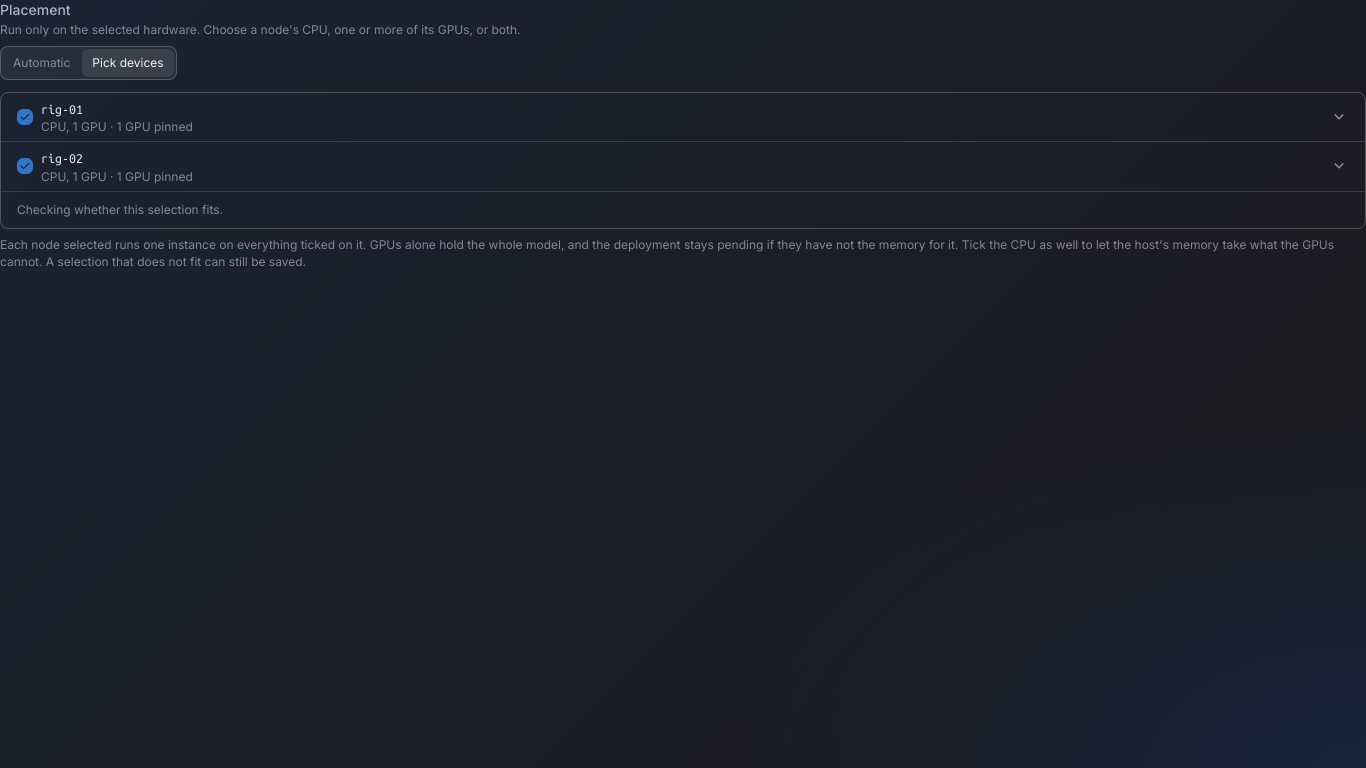
Test case: MfPlacementField › shows a ticked card's free memory after headroom, from the figures its verdict was read off
Click the button named "Show devices" in the row of "rig-01".
click(1339, 117)  # box [1321,99,1357,135]
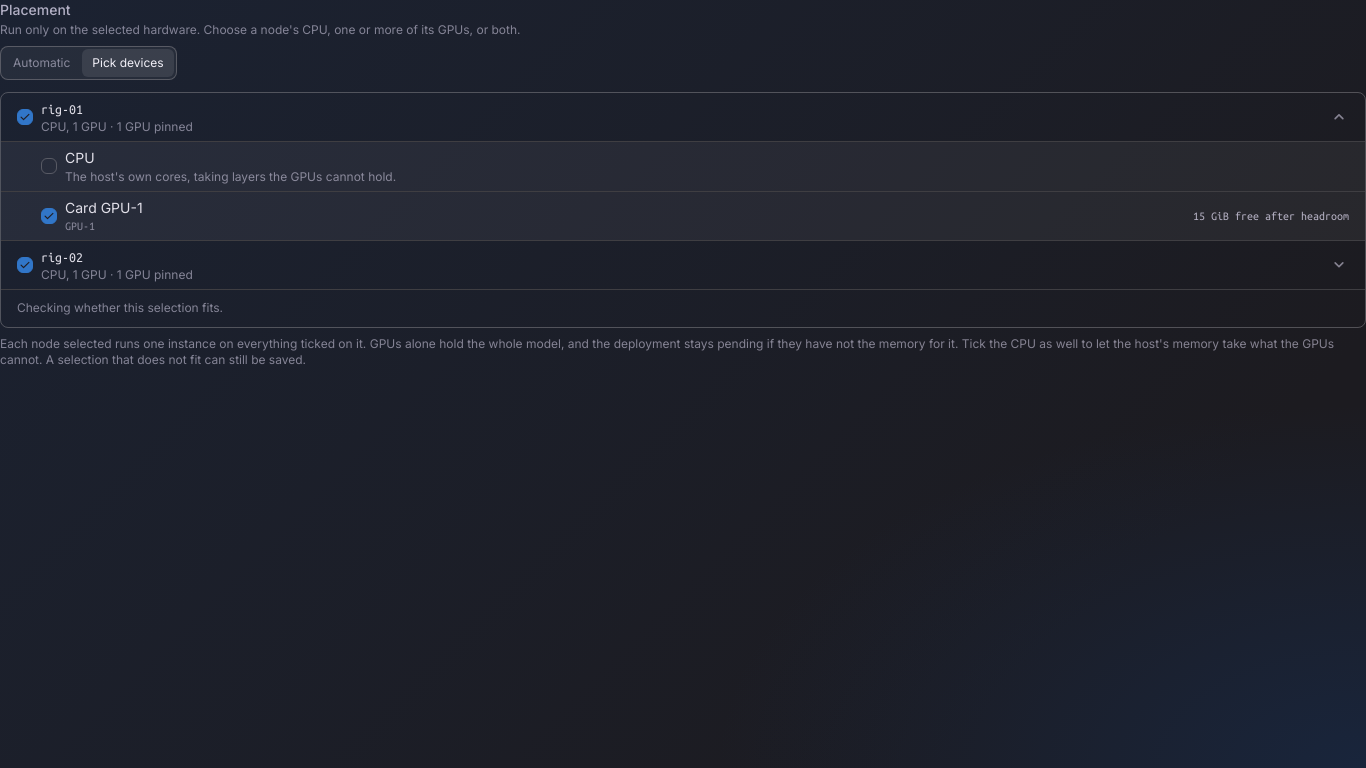
Click the button named "Show devices".
click(1339, 265)  # box [1321,247,1357,283]
Wait 401 ms
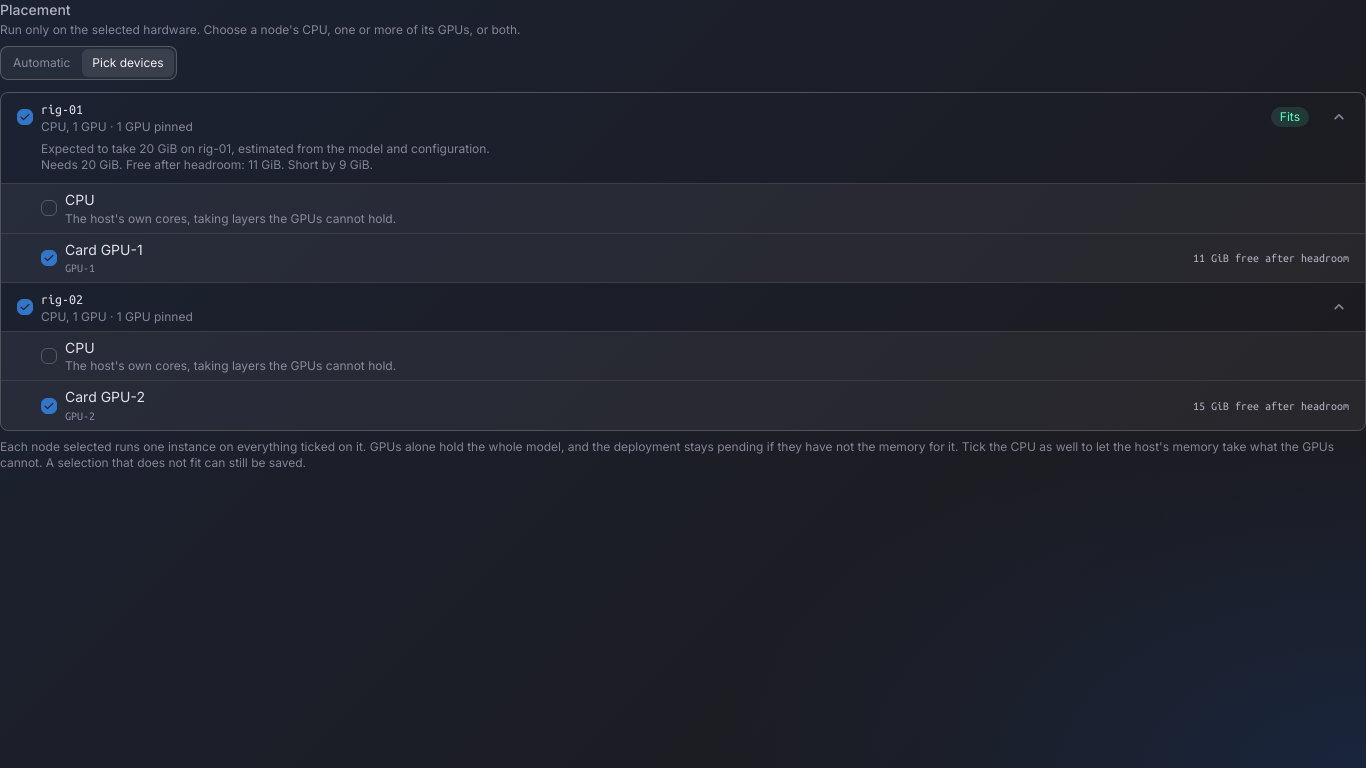
Now the text "15 GiB free after headroom" is shown, box [1193,398,1349,414]
Now the text "11 GiB free after headroom" is shown, box [1193,250,1349,266]
